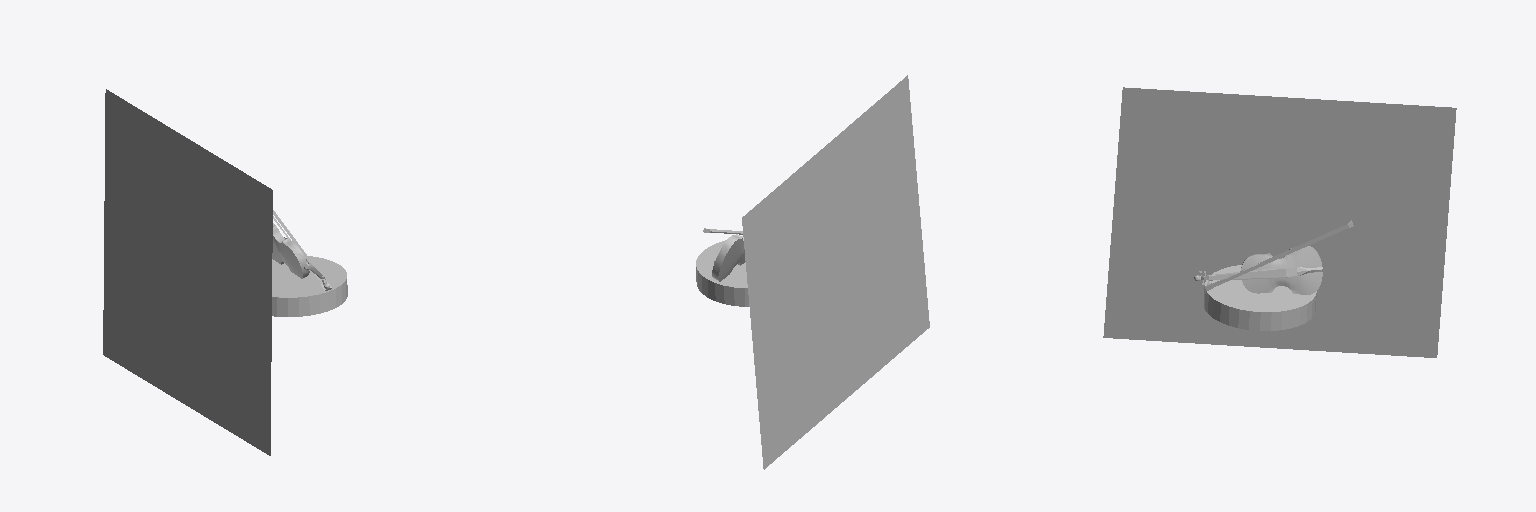
Rendered from violino.obj.
3 renders of one model, left to right at view 1: azimuth 30°, elevation 25°; view 2: azimuth 150°, elevation 25°; view 3: azimuth 270°, elevation 25°, orthographic.
Visible parts, largest first — view 1: Plane, Cylinder, Mesh_0113; view 2: Plane, Cylinder, Mesh_0113; view 3: Plane, Cylinder, Mesh_0113, Mesh_0119, Mesh_0118.
Part boxes in pixels (left/top/right/bottom): Plane: left=103, top=89, right=272, bottom=455; Cylinder: left=272, top=256, right=347, bottom=316; Mesh_0113: left=272, top=236, right=329, bottom=289; Plane: left=742, top=75, right=929, bottom=469; Cylinder: left=696, top=240, right=748, bottom=306; Mesh_0113: left=718, top=238, right=745, bottom=281; Plane: left=1103, top=87, right=1456, bottom=357; Cylinder: left=1204, top=265, right=1316, bottom=330; Mesh_0113: left=1194, top=246, right=1322, bottom=294; Mesh_0119: left=1205, top=220, right=1353, bottom=290; Mesh_0118: left=1201, top=268, right=1296, bottom=279.
Bounding box in the file's own units: 14.95 × 26.66 × 30.8.